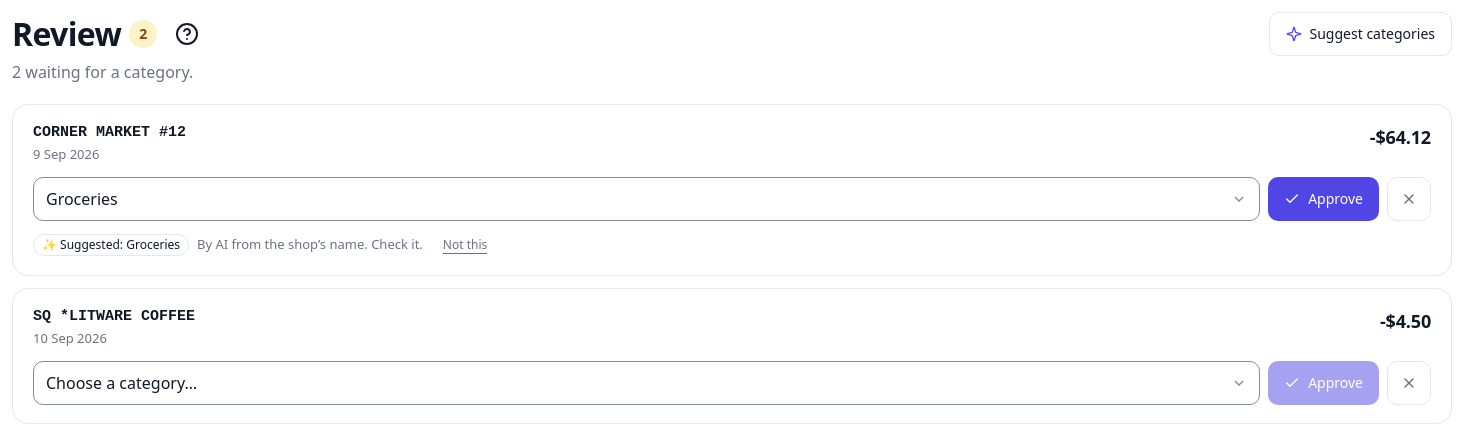
it: Review shows suggested categories › puts a suggestion back with Not this
This screenshot has width=1464, height=441.
Click the button "Not this": click(465, 245) [431,229,499,261]
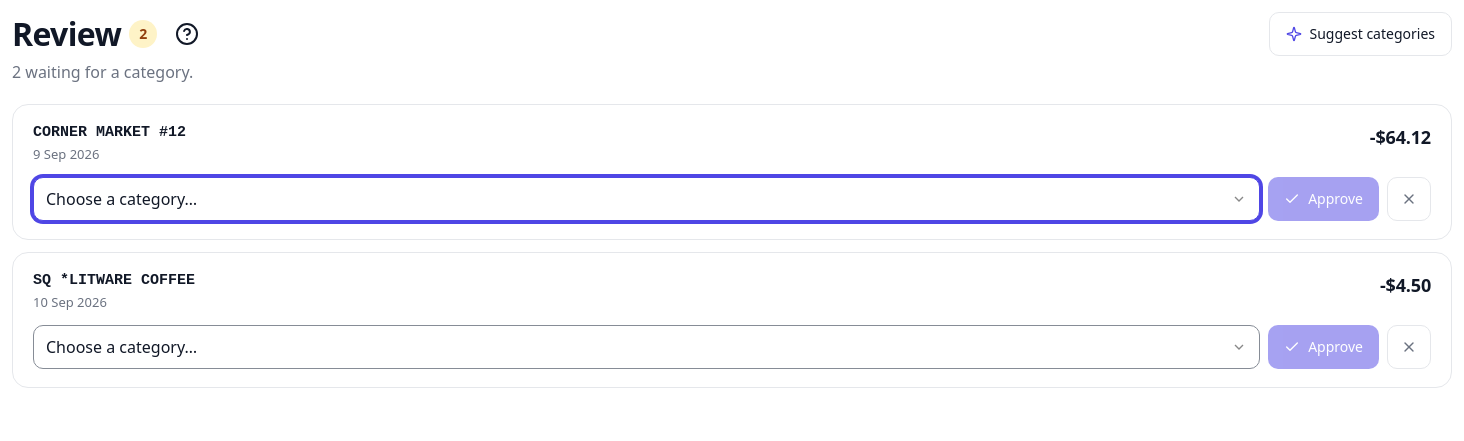
expect the dropdown named "Category" below "9 Sep 2026" shows "Choose a category…": met, box [33,177,1260,221]
expect the text "Suggested:" is gone: met
